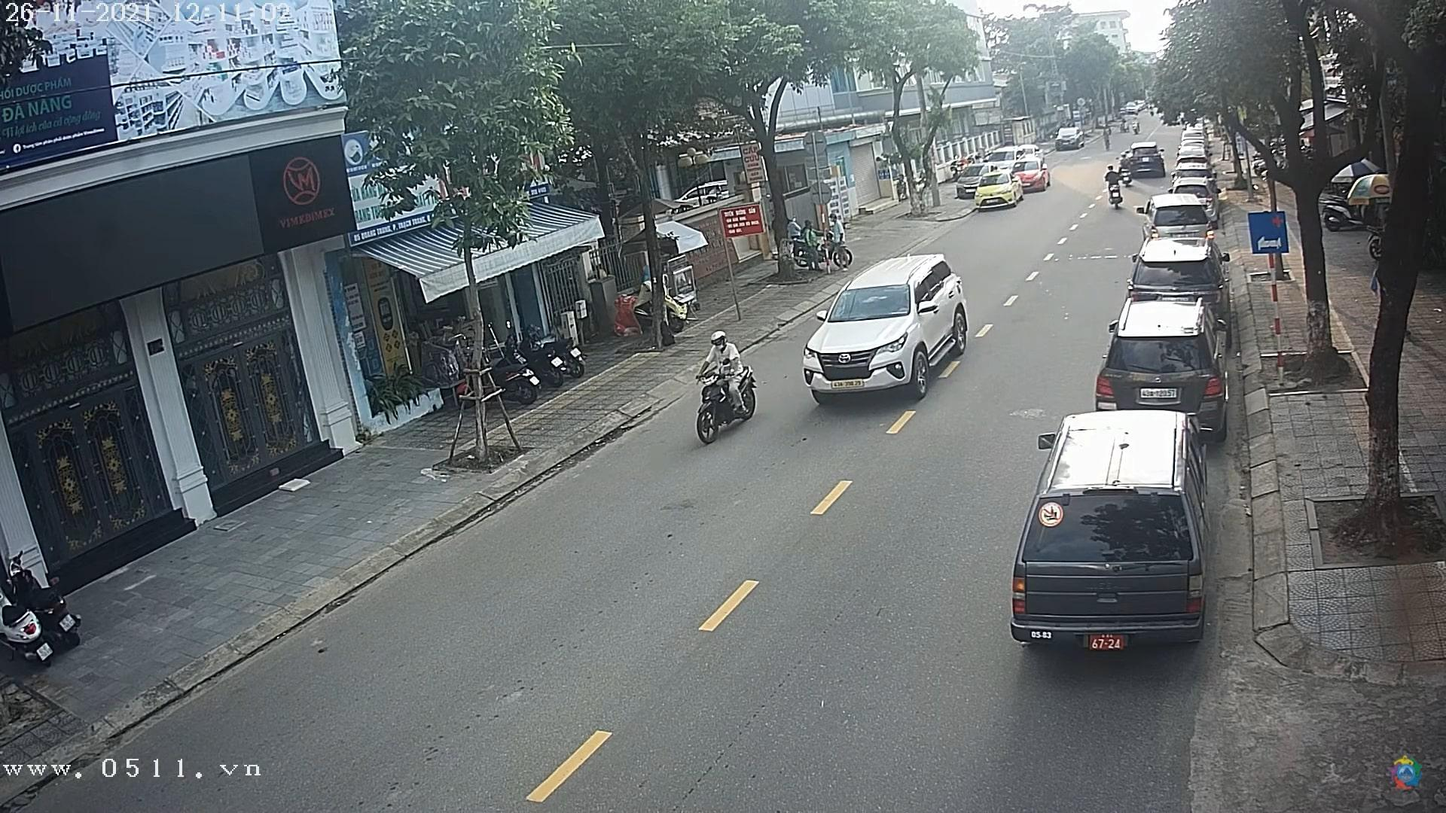car: (1014, 410, 1209, 651), (801, 254, 971, 399), (1095, 296, 1228, 425), (1129, 236, 1230, 302), (1139, 193, 1220, 251), (1118, 143, 1167, 184), (1057, 126, 1086, 149)
motorbike: (694, 364, 759, 446)
